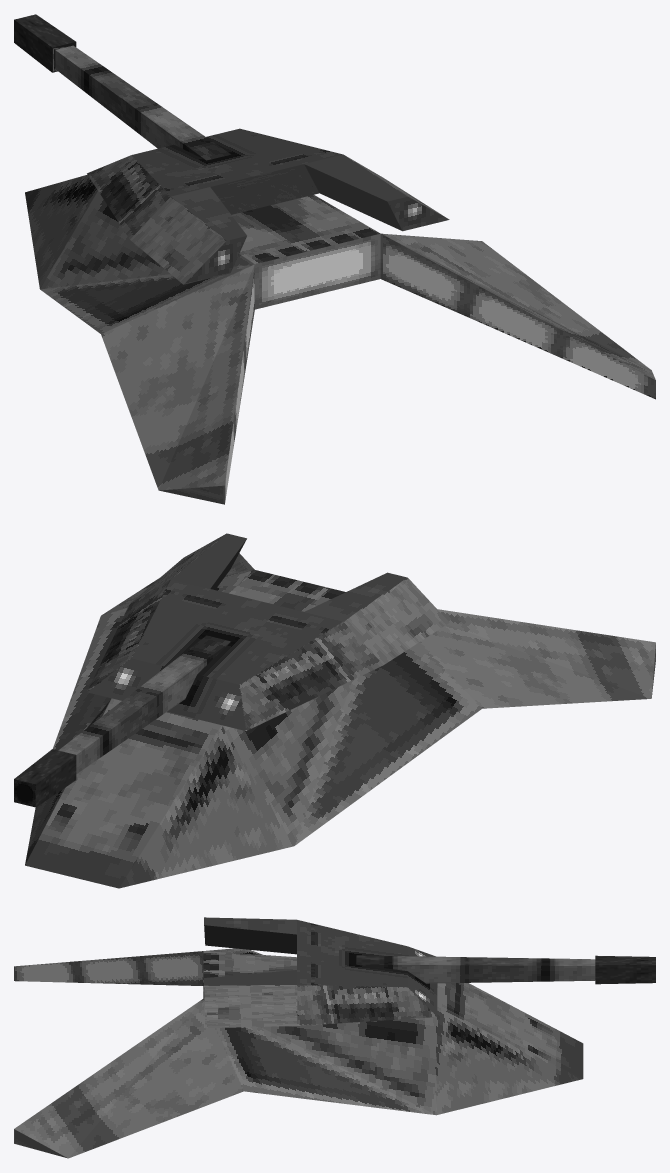
File: Chameleon.glb
3 renders of one model, top to bottom at view 1: azimuth 30°, elevation 25°; view 2: azimuth 150°, elevation 25°; view 3: azimuth 270°, elevation 25°, orthographic. The views are drawn at different scales.
Parts seen in each view (by area): view 1: Body, Turret, Barrel; view 2: Body, Turret, Barrel; view 3: Body, Turret, Barrel.
Part boxes in pixels (<box>): Body: <box>25,174,655,504</box>; Turret: <box>87,128,449,284</box>; Barrel: <box>14,14,230,160</box>; Body: <box>25,553,655,888</box>; Turret: <box>87,533,449,730</box>; Barrel: <box>14,635,230,807</box>; Body: <box>14,948,583,1158</box>; Turret: <box>204,917,437,1028</box>; Barrel: <box>356,955,655,984</box>.
Size of the model in its own units: 1.19 by 0.3444 by 1.73.
3 materials, 3 textured.
